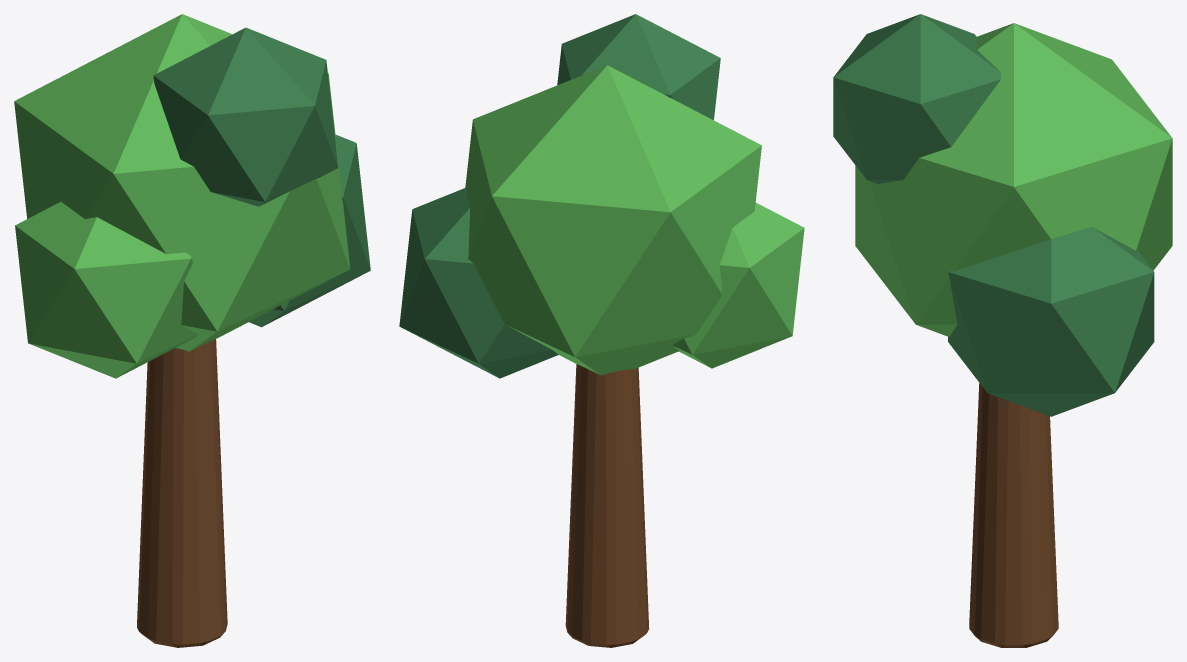
The model's file is CatCafe_Park_Tree.glb.
3 views of the same model, side by side, from view 1: azimuth 30°, elevation 25°; view 2: azimuth 150°, elevation 25°; view 3: azimuth 270°, elevation 25° (orthographic). The views are drawn at different scales.
Visible parts, largest first — view 1: CatCafe_Park_Tree; view 2: CatCafe_Park_Tree; view 3: CatCafe_Park_Tree.
Boxes of the visible parts, left/top/right/bottom form: CatCafe_Park_Tree: left=14, top=14, right=370, bottom=647; CatCafe_Park_Tree: left=399, top=14, right=804, bottom=647; CatCafe_Park_Tree: left=833, top=14, right=1172, bottom=647.
Bounding box in the file's own units: 4.54 × 7.4 × 3.64.
1 material, 1 textured.
